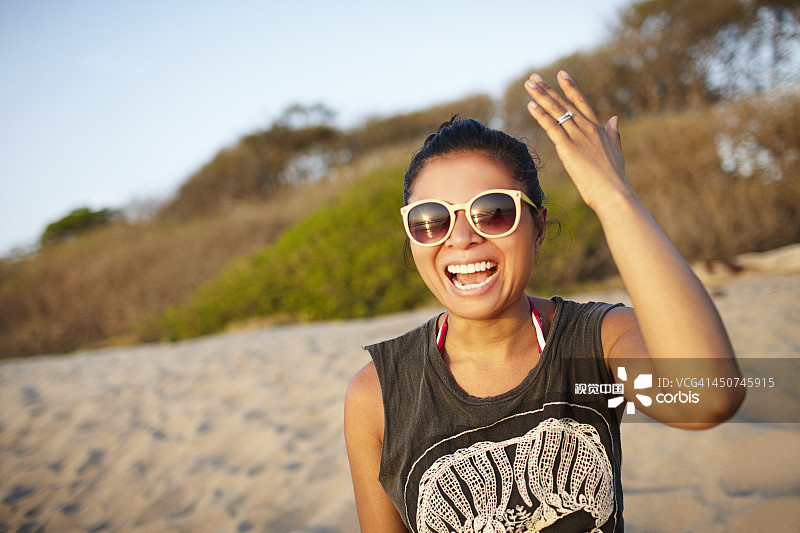no-phone: (515, 54, 650, 219)
